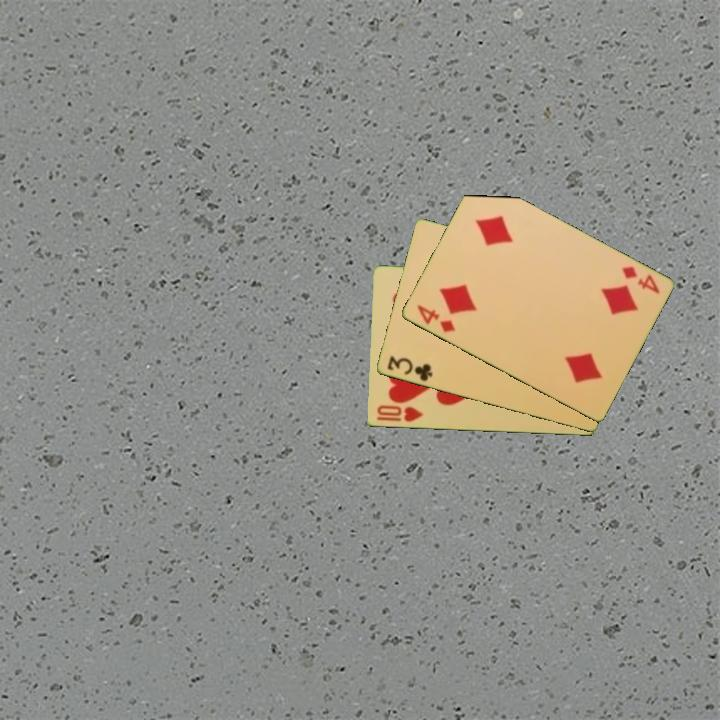10h: (373, 402, 425, 425)
3c: (383, 352, 435, 384)
4d: (413, 301, 458, 335), (618, 263, 662, 297)
